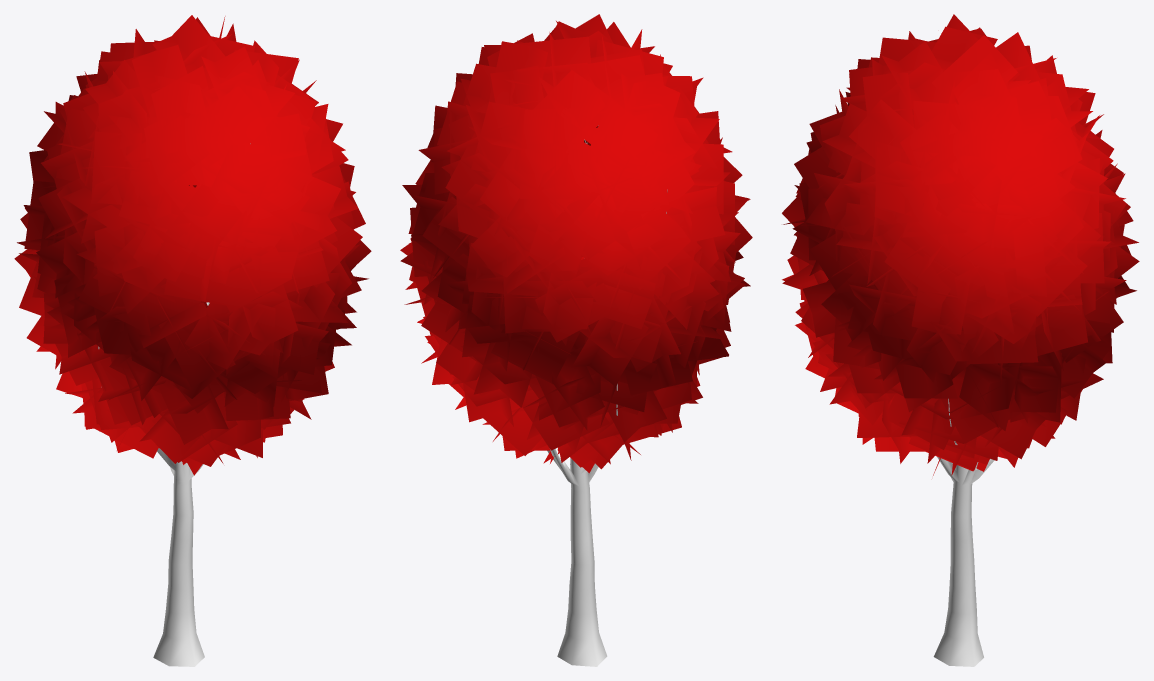
Rendered from SM_tree_01.FBX.
The picture shows the model from 3 angles, left to right: view 1: azimuth 30°, elevation 25°; view 2: azimuth 150°, elevation 25°; view 3: azimuth 270°, elevation 25°; orthographic projection.
Parts seen in each view (by area): view 1: SM_tree_01_LOD0; view 2: SM_tree_01_LOD0; view 3: SM_tree_01_LOD0.
Part boxes in pixels (x1,y1,x2,y2): SM_tree_01_LOD0: [14, 15, 371, 666]; SM_tree_01_LOD0: [400, 14, 752, 666]; SM_tree_01_LOD0: [782, 14, 1139, 666].
Size of what is drawn, in the model's own units: 858 by 869 by 1696.
